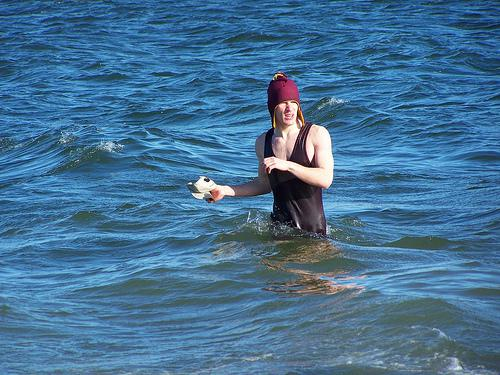human: (189, 74, 336, 240)
